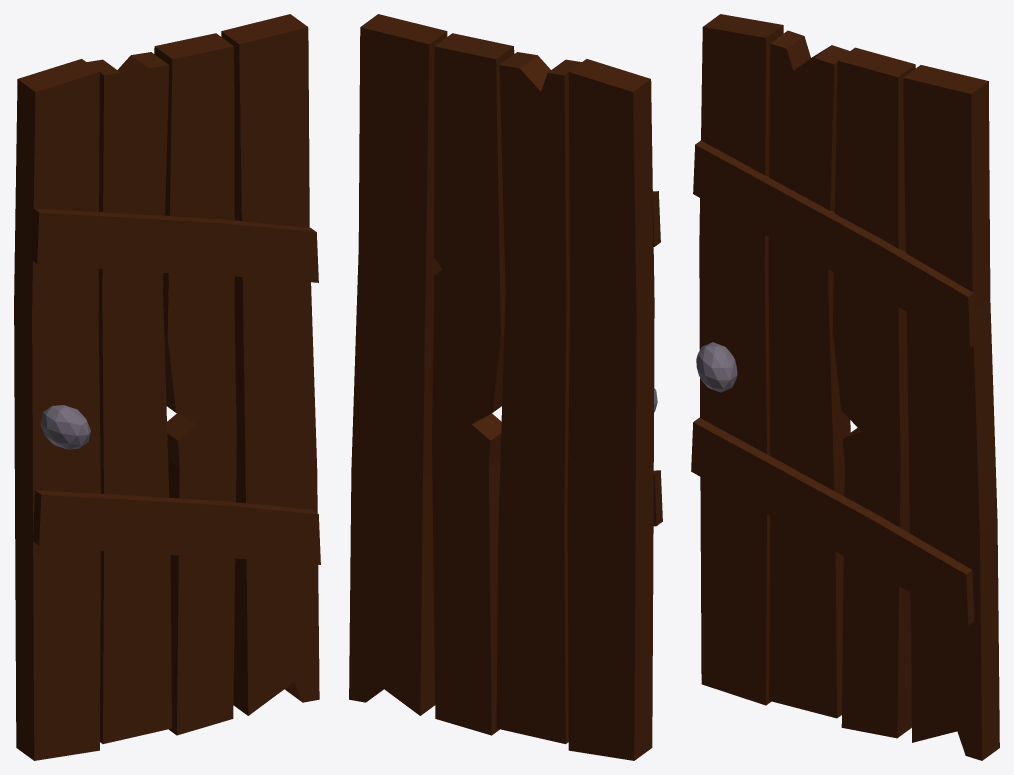
File: cabin door.fbx
3 views of the same model, side by side, from view 1: azimuth 30°, elevation 25°; view 2: azimuth 150°, elevation 25°; view 3: azimuth 330°, elevation 25° (orthographic).
Parts seen in each view (by area): view 1: door, Plane.027, Plane.026, Door Knob; view 2: door; view 3: door, Plane.027, Plane.026, Door Knob.
Part boxes in pixels (x1=…): door: x1=14, y1=14, x2=319, y2=760; Plane.027: x1=33, y1=490, x2=320, y2=564; Plane.026: x1=31, y1=208, x2=318, y2=282; Door Knob: x1=40, y1=405, x2=90, y2=449; door: x1=349, y1=14, x2=654, y2=760; door: x1=699, y1=14, x2=999, y2=760; Plane.027: x1=691, y1=417, x2=974, y2=625; Plane.026: x1=693, y1=140, x2=976, y2=347; Door Knob: x1=696, y1=342, x2=737, y2=392.
Size of the model in its own units: 57.2 by 129 by 12.96.
